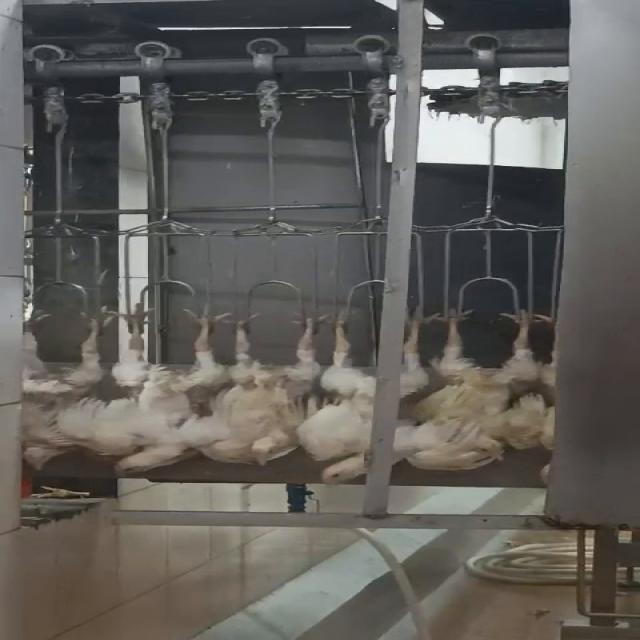chicken: (302, 307, 459, 491), (87, 308, 232, 478), (420, 303, 559, 474), (208, 302, 333, 468), (0, 307, 123, 472)
